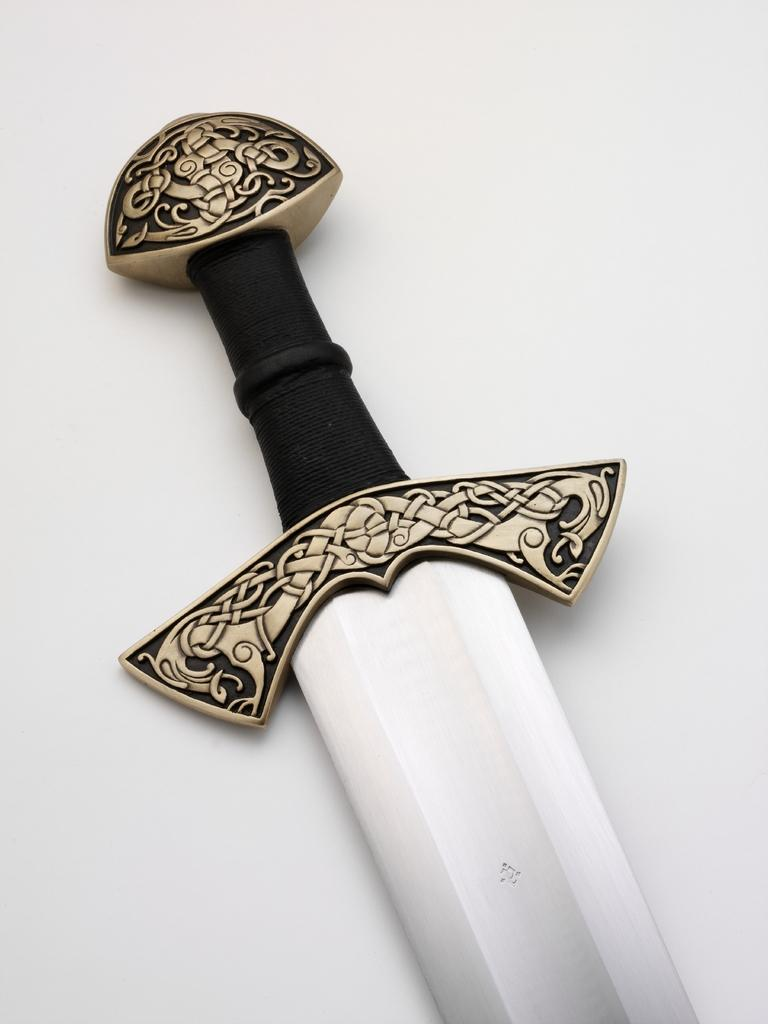Sword: (86, 92, 724, 1023)
